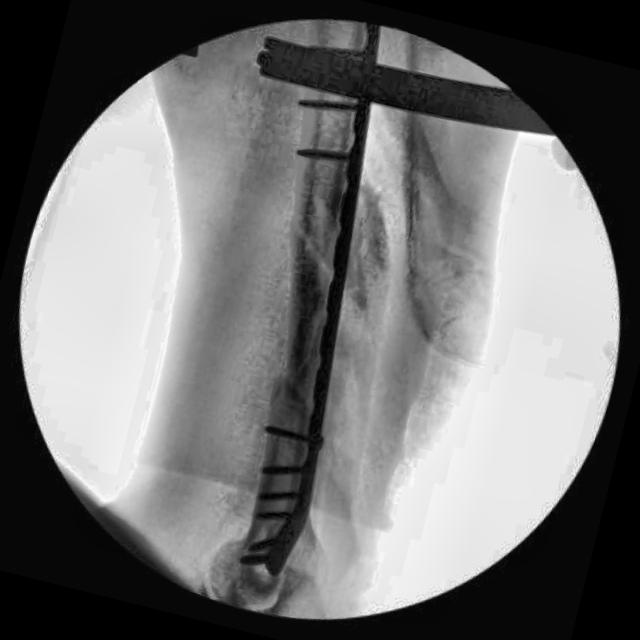humerus: (253, 209, 344, 390)
